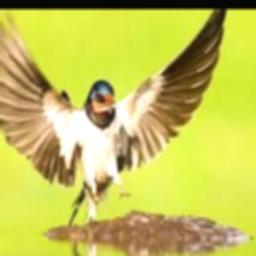Swallow: (0, 9, 227, 224)
